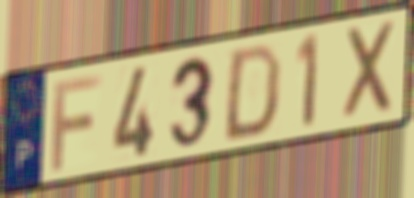1: (295, 31, 320, 129)
3: (166, 51, 224, 153)
4: (111, 60, 158, 162)
D: (220, 41, 284, 145)
F: (49, 70, 105, 173)
X: (342, 16, 400, 125)
